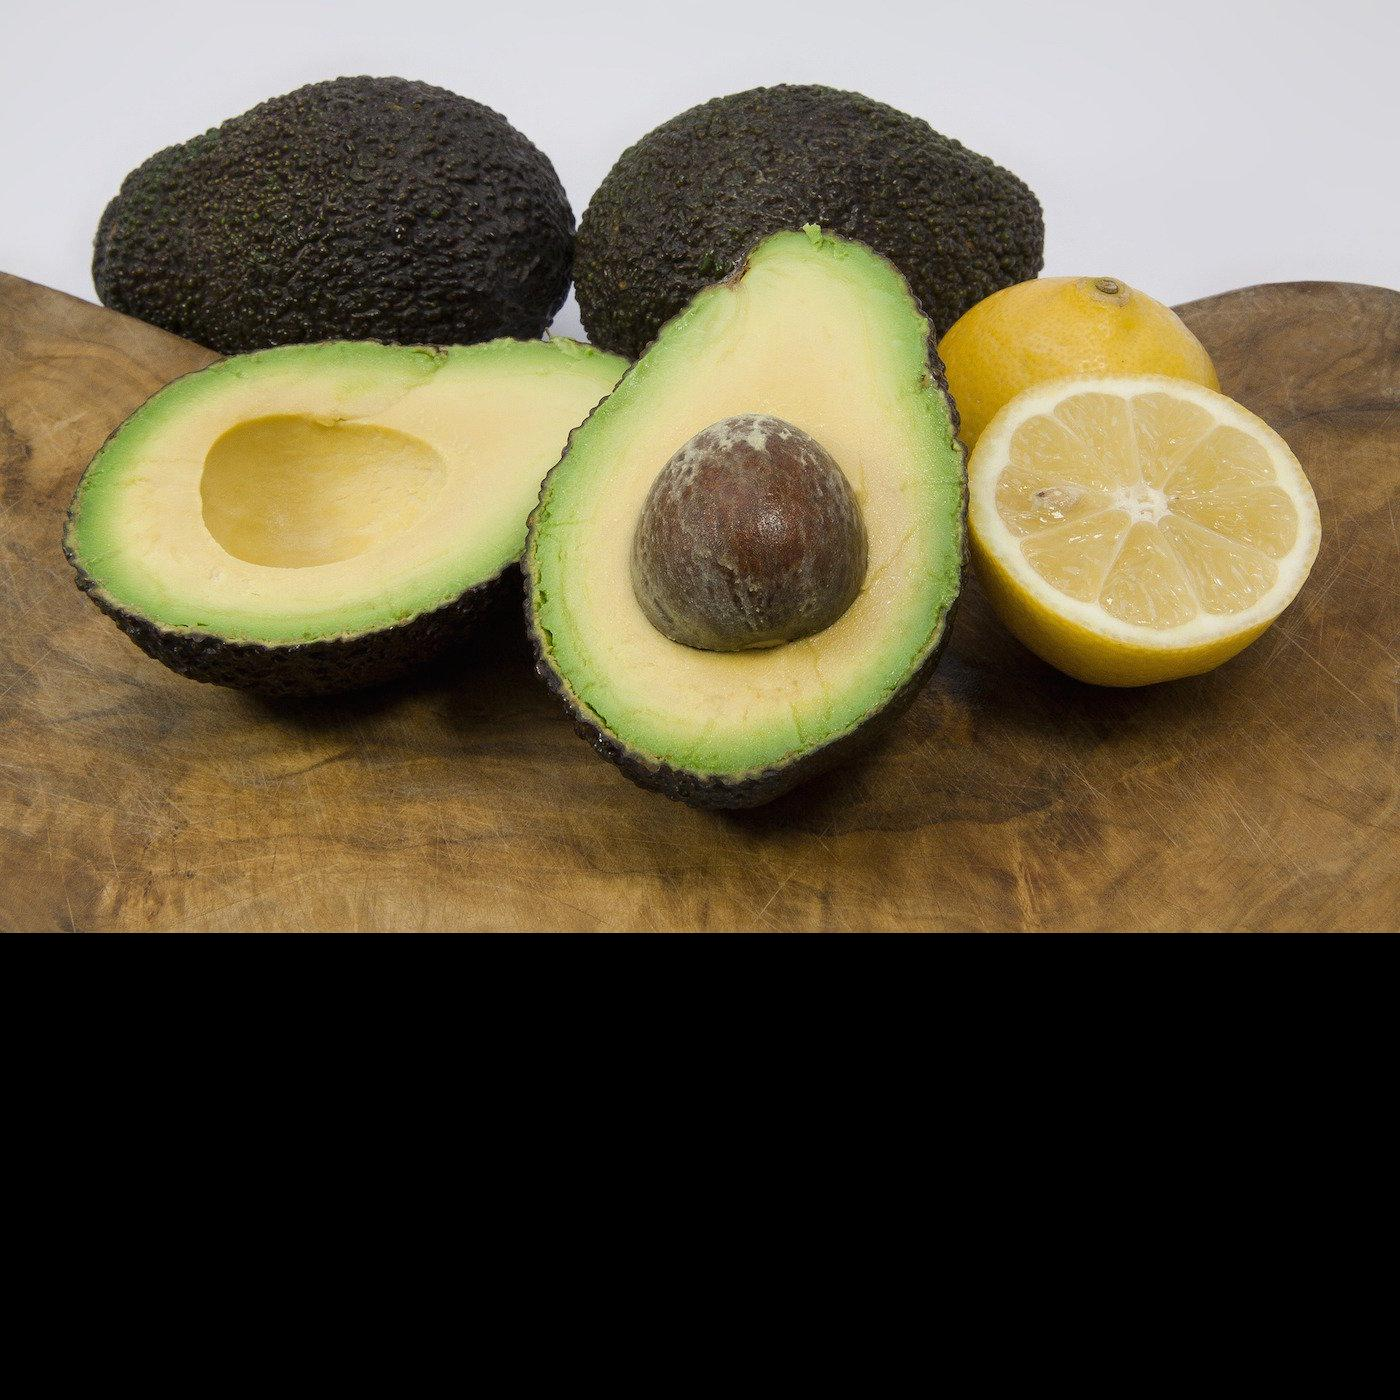ripe: (92, 78, 574, 356), (573, 85, 1044, 362)
